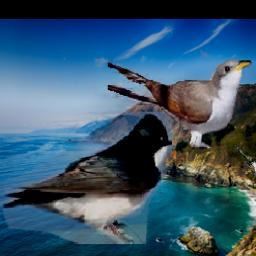Cuckoo: (109, 59, 253, 149), (234, 143, 256, 177)
Swallow: (0, 112, 172, 244)
